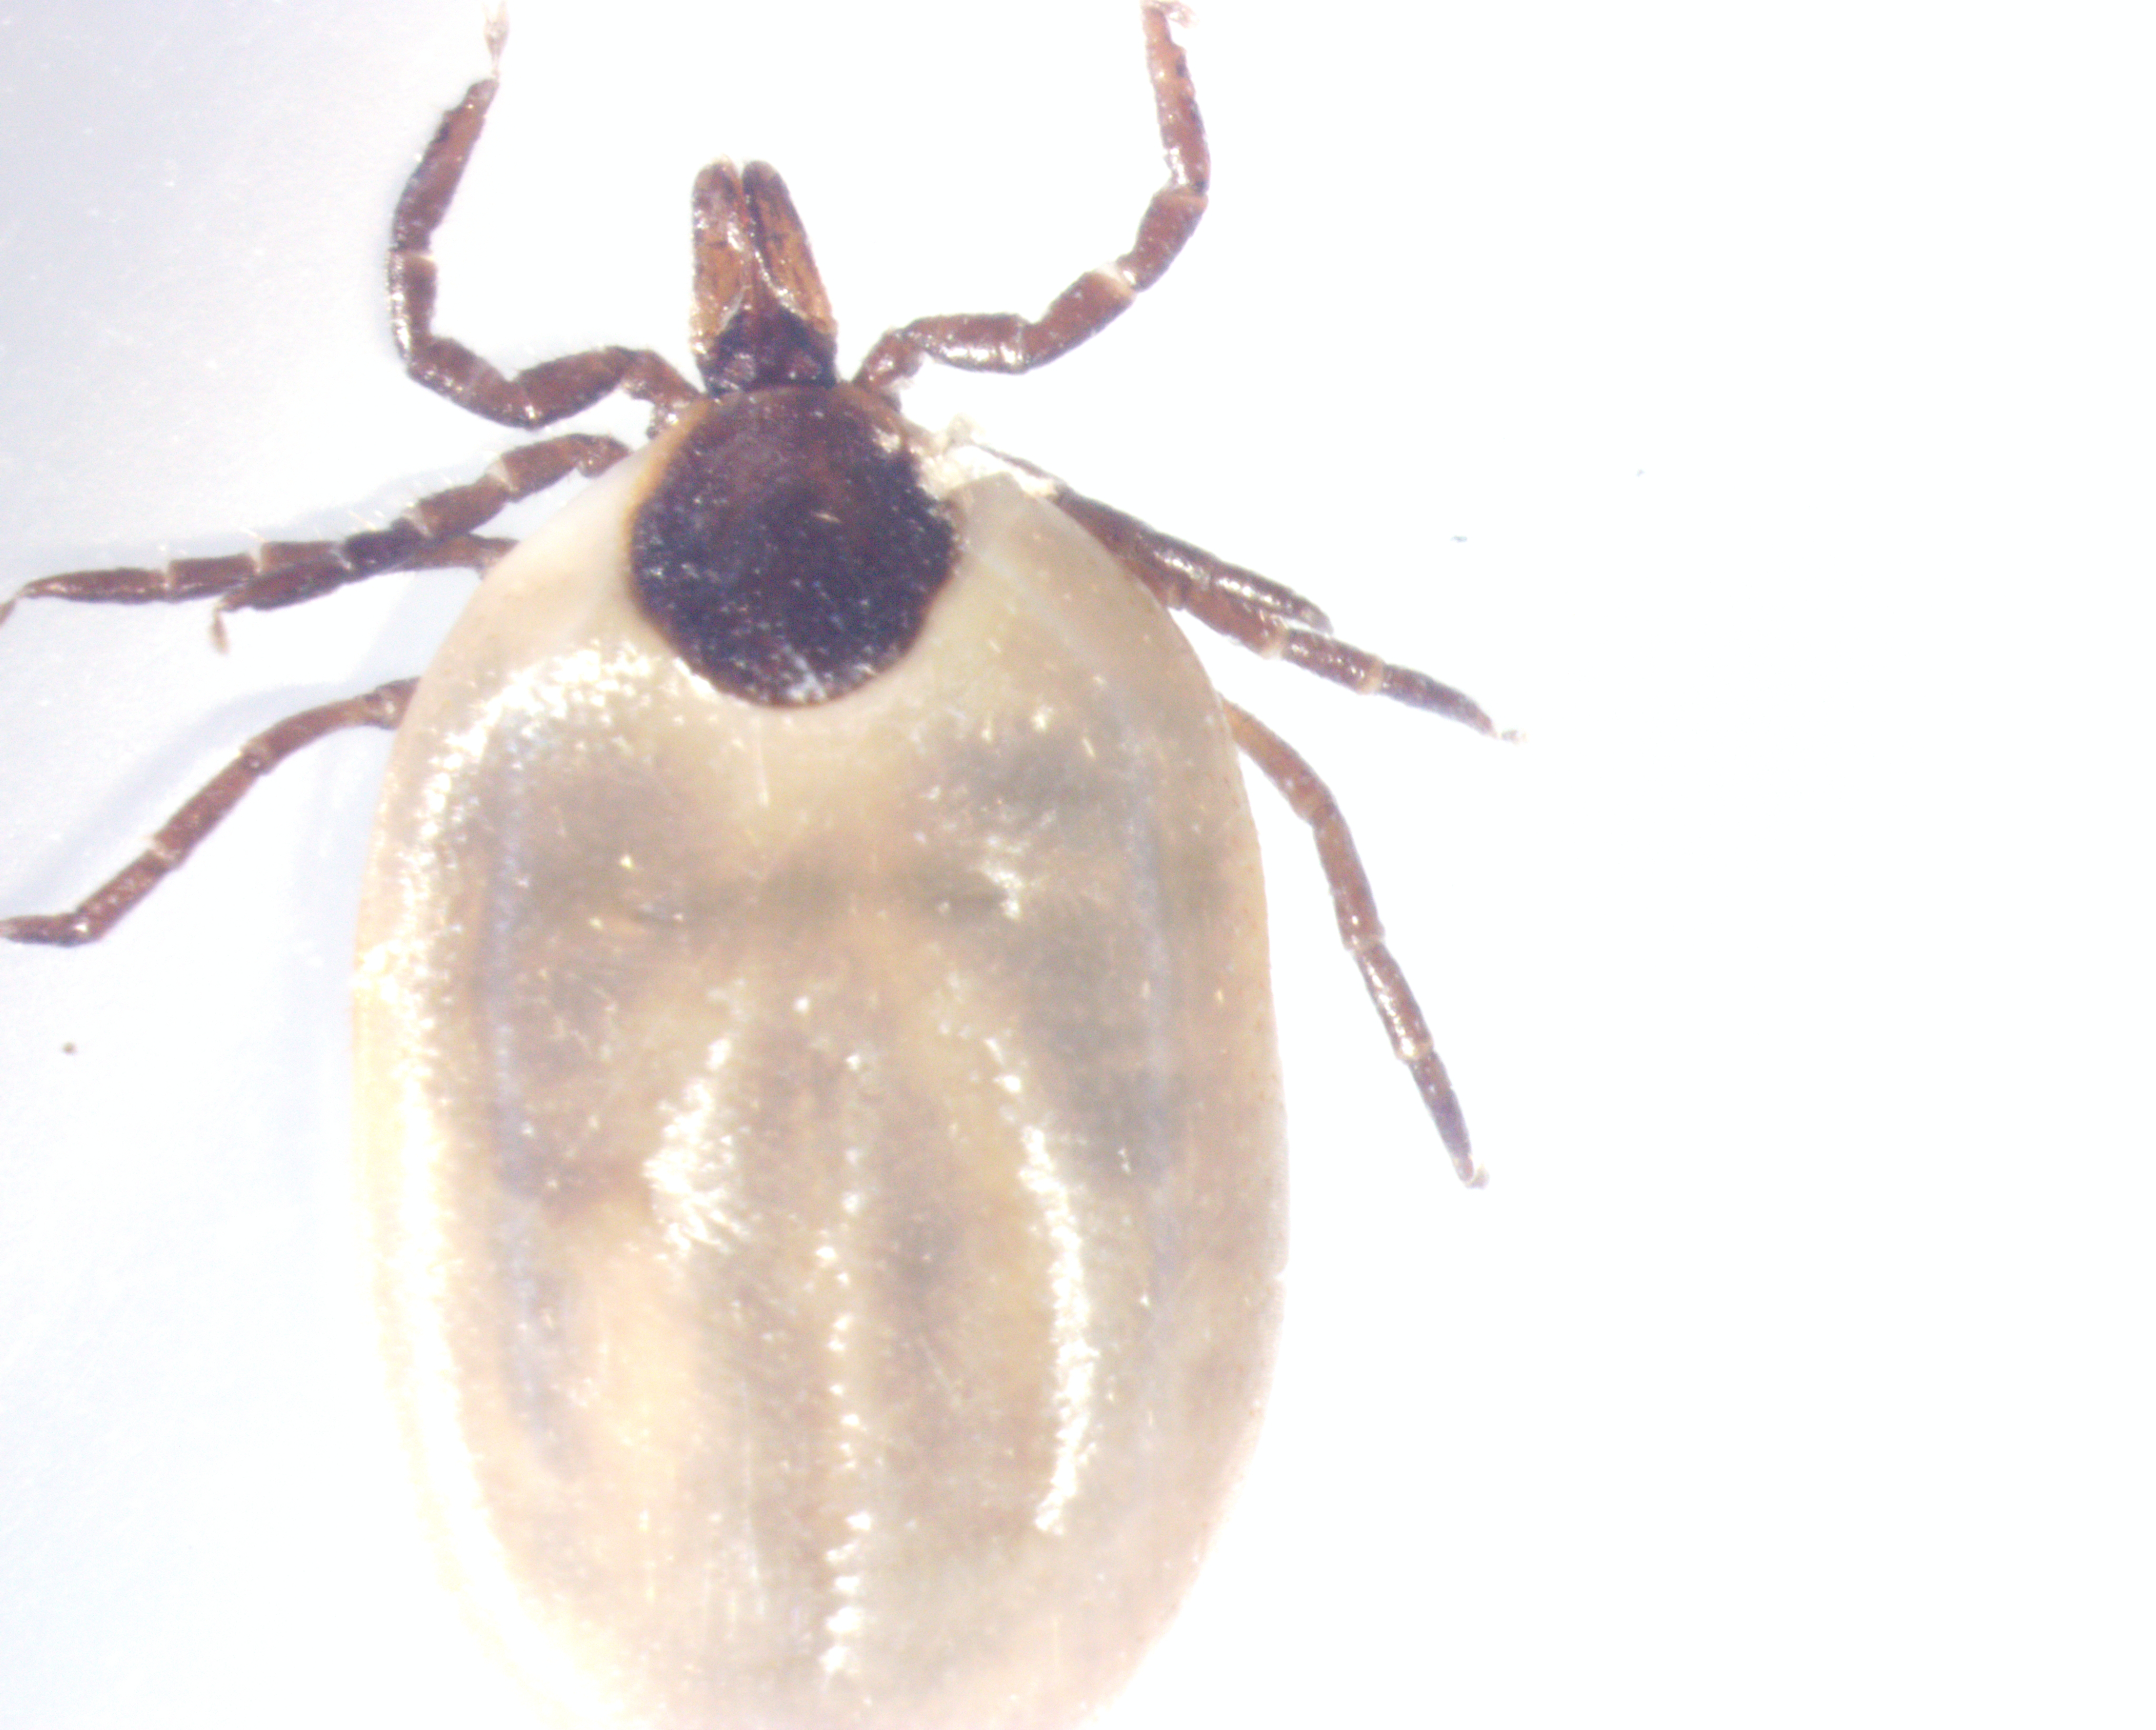unlabelled_tick: (2, 9, 1529, 1725)
